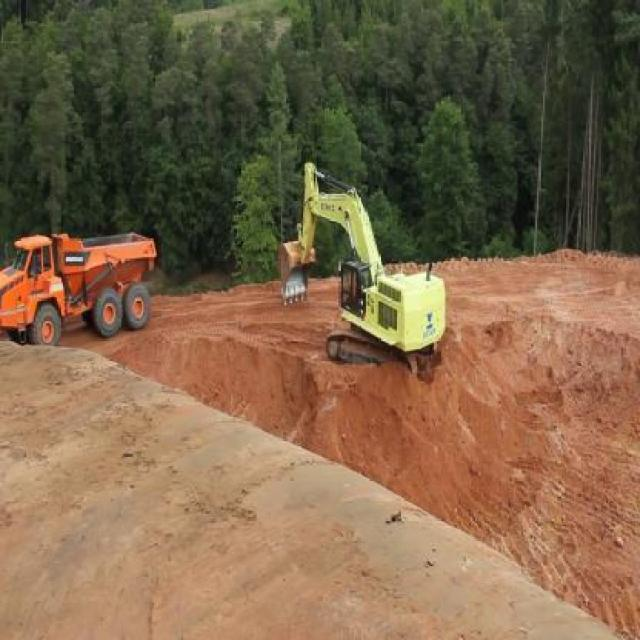Dump Truck: (1, 224, 158, 348)
Excavator: (277, 159, 445, 376)
